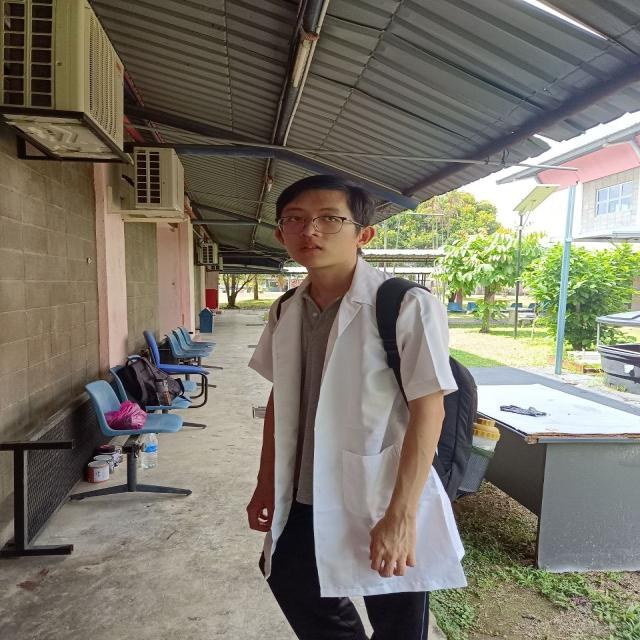person_with_labcoat: (247, 176, 465, 640)
